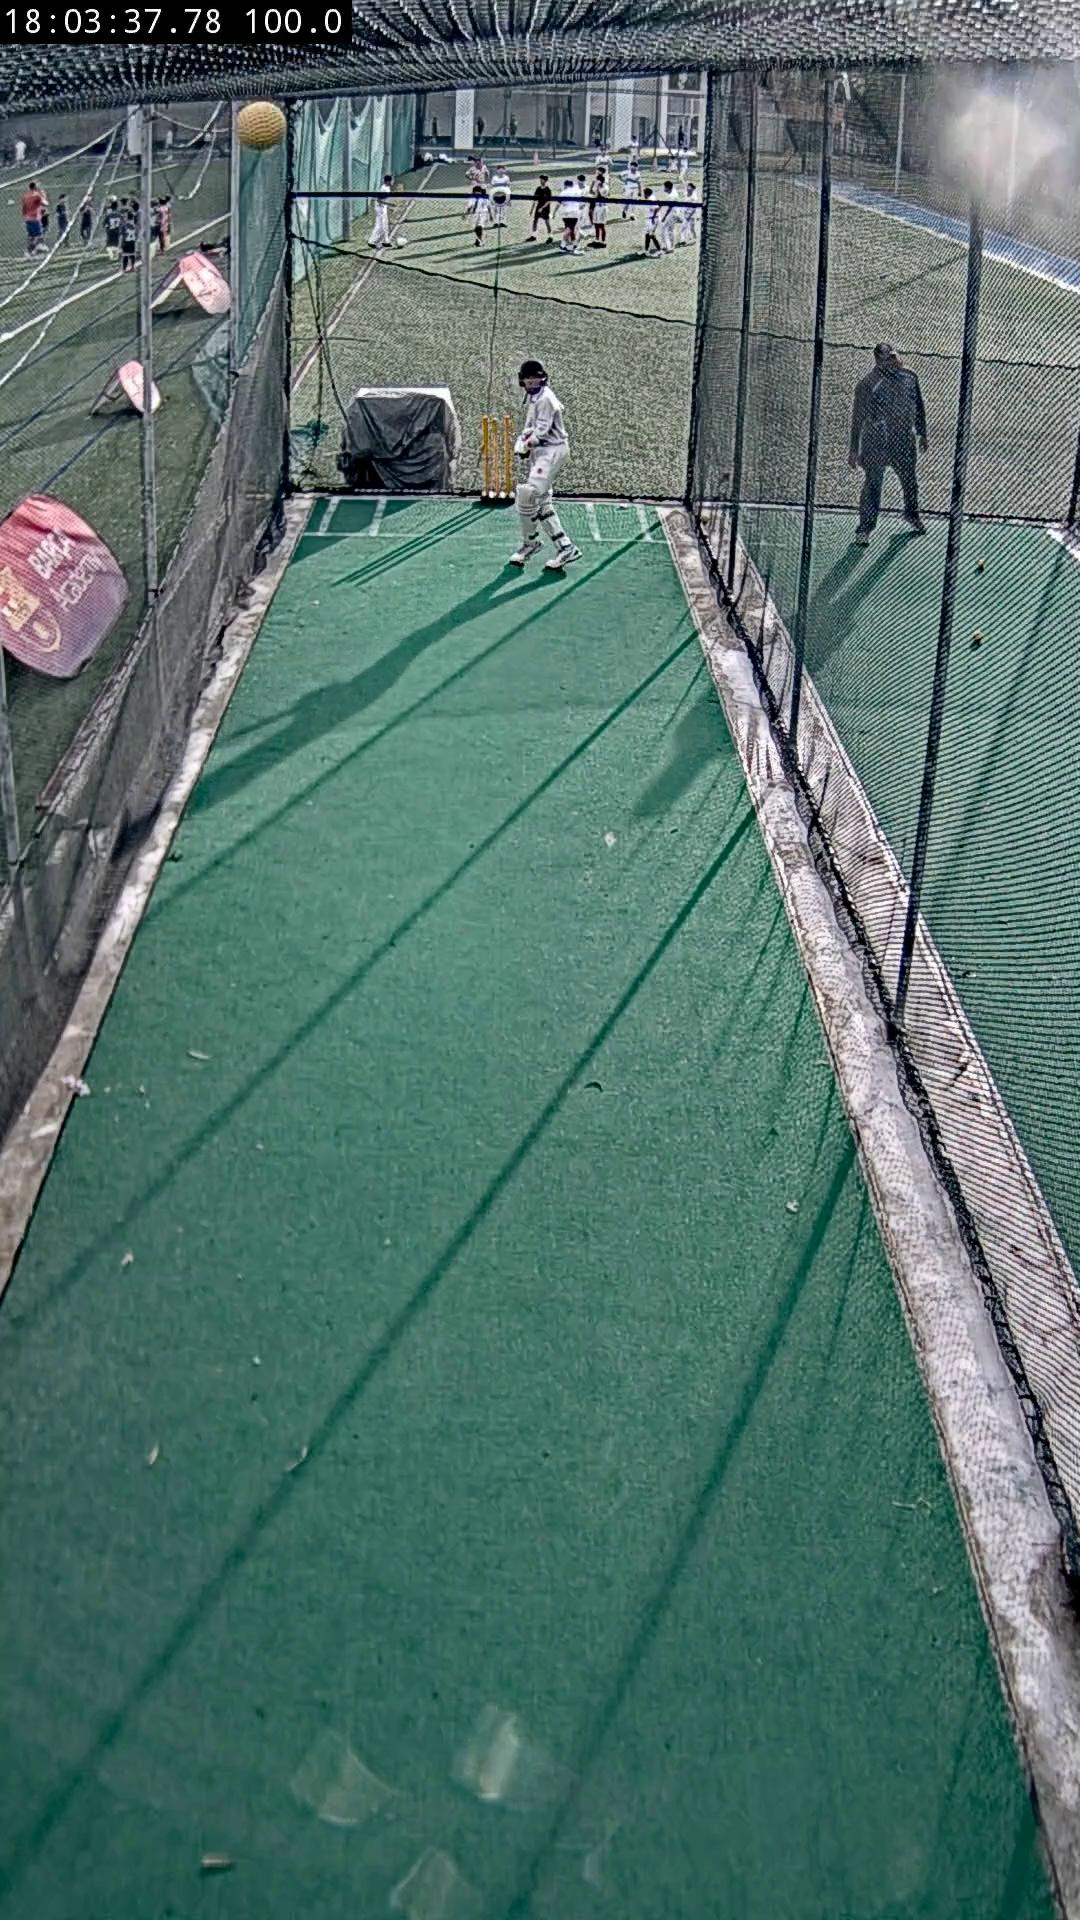ball: (236, 102, 285, 150)
